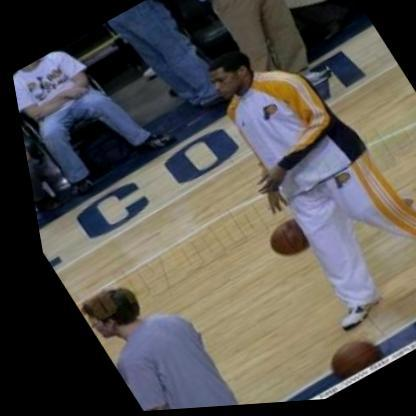basketball: (246, 211, 314, 271)
